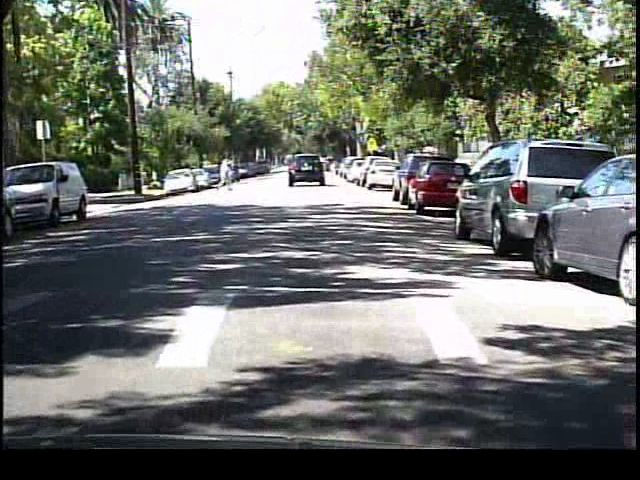person: (215, 153, 236, 195)
